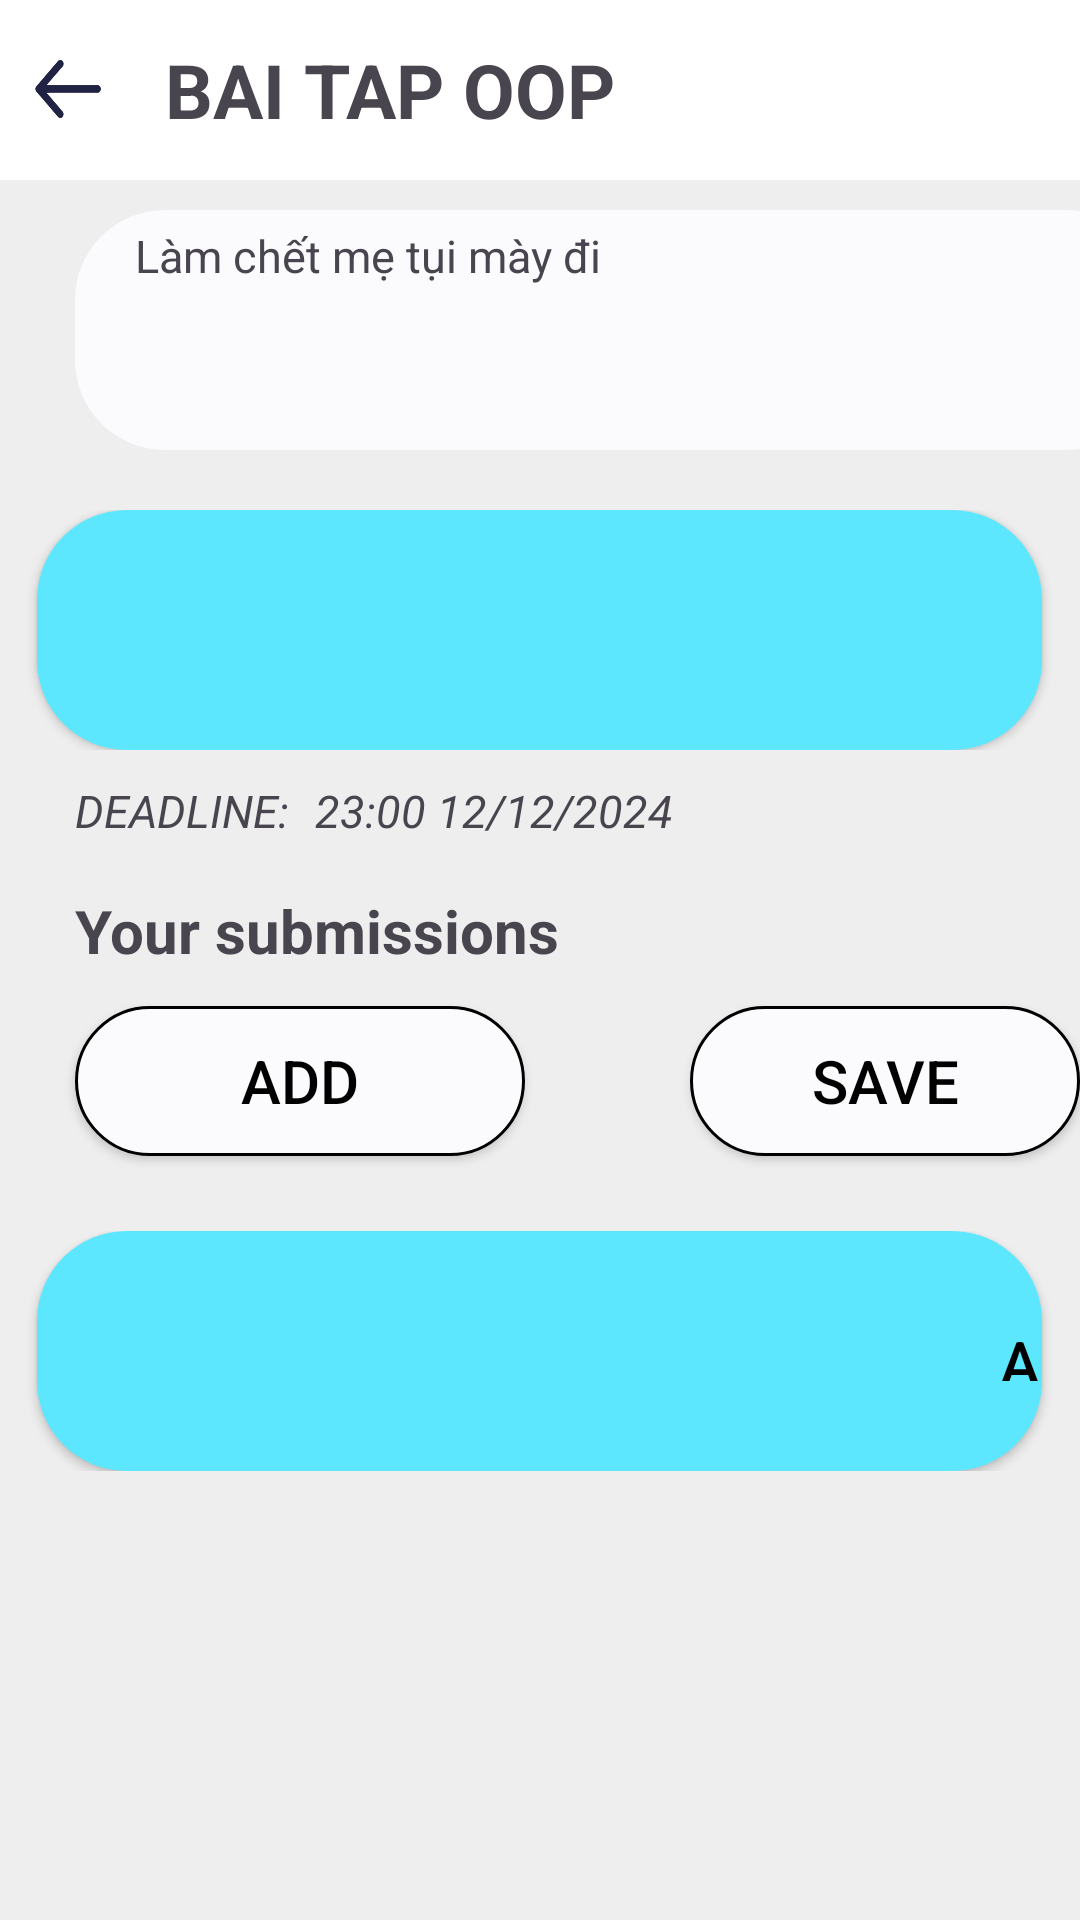

Icons on this 1080×1920 Android screen, each with its box as {"left": x1, "top": y1, "right": x2, "bottom": y2}:
back: {"left": 35, "top": 60, "right": 101, "bottom": 118}
